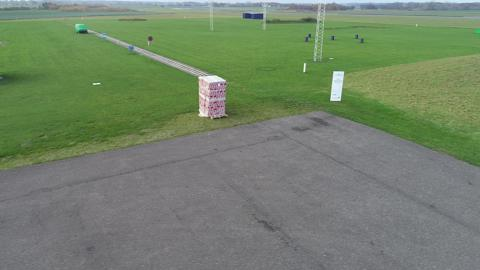RockwoolPallet: (198, 75, 227, 119)
